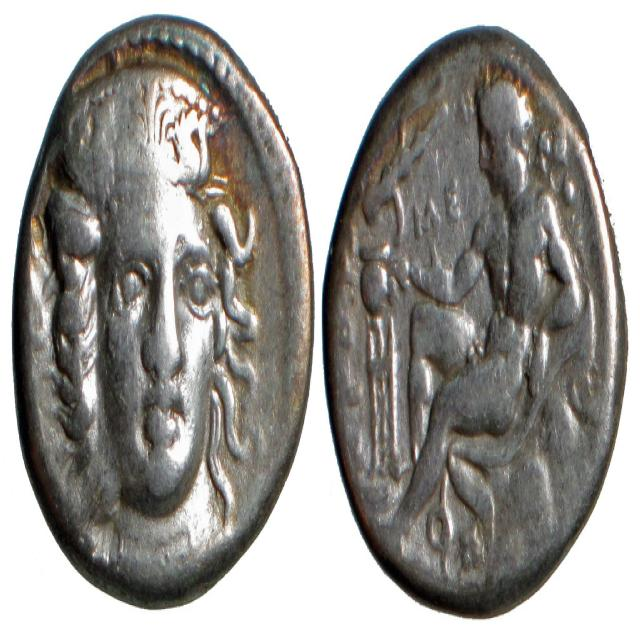Coin: (10, 11, 315, 610), (322, 34, 634, 615)
